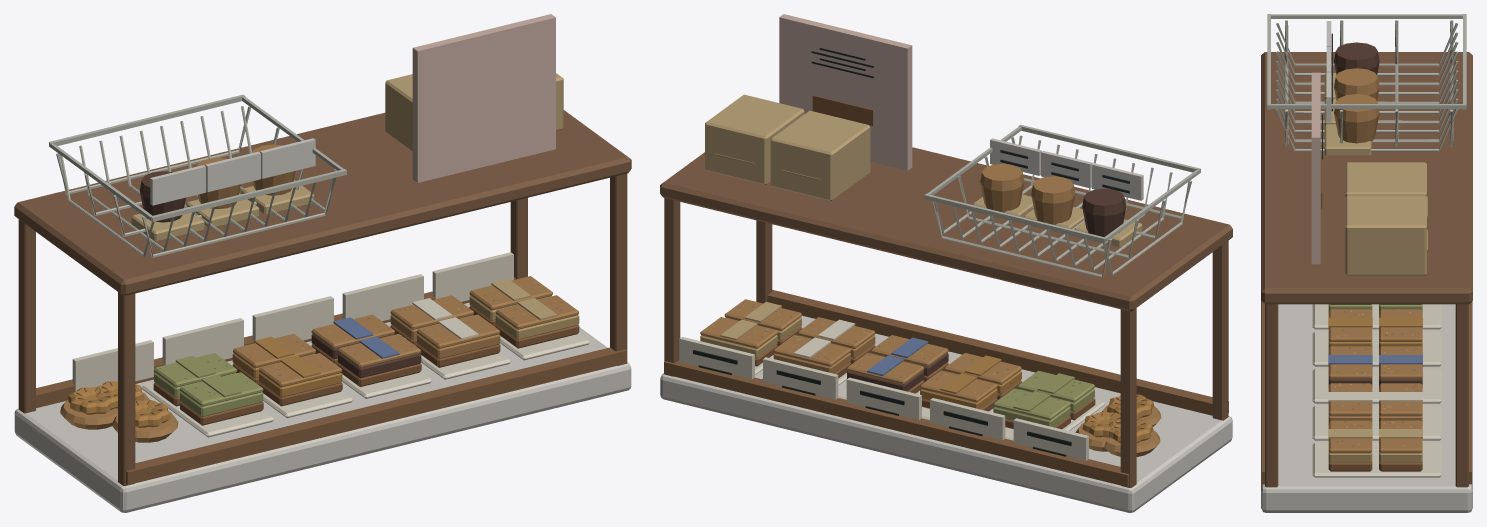
The model's file is pastry.glb.
3 renders of one model, left to right at view 1: azimuth 30°, elevation 25°; view 2: azimuth 150°, elevation 25°; view 3: azimuth 270°, elevation 25°, orthographic. The views are drawn at different scales.
Visible parts, largest first — view 1: HalffPastry; view 2: HalffPastry; view 3: HalffPastry.
Boxes of the visible parts, left/top/right/bottom form: HalffPastry: left=14, top=14, right=631, bottom=512; HalffPastry: left=660, top=14, right=1232, bottom=512; HalffPastry: left=1261, top=14, right=1472, bottom=512.
Size of the model in its own units: 1.34 by 0.9201 by 0.4999.
